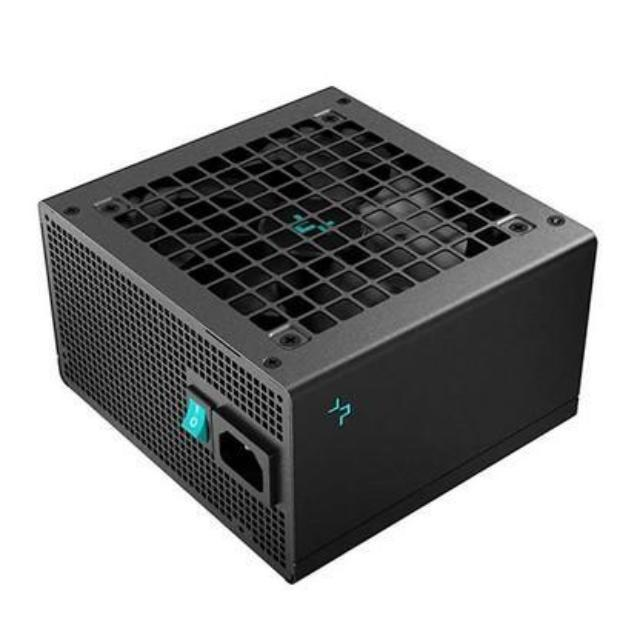PSU: (27, 75, 602, 597)
